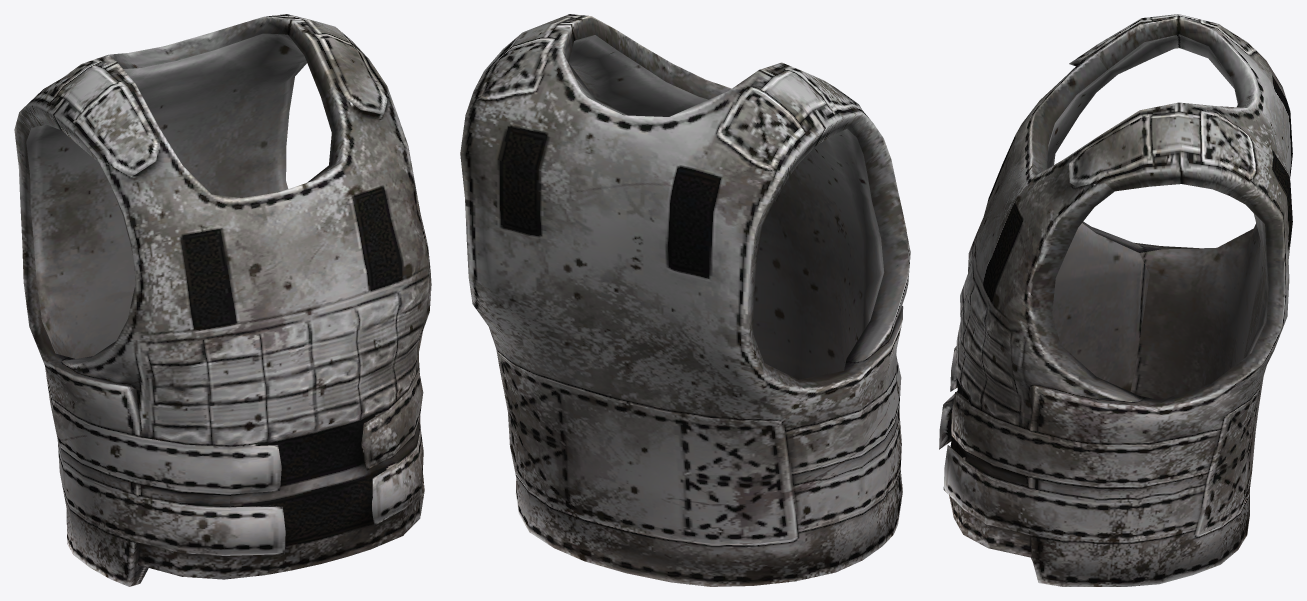
The model's file is SurvivorMale_Armor_Kevlar_Basic_Velcro_LOD0.glb.
The picture shows the model from 3 angles, left to right: view 1: azimuth 30°, elevation 25°; view 2: azimuth 150°, elevation 25°; view 3: azimuth 270°, elevation 25°; orthographic projection. The views are drawn at different scales.
Parts seen in each view (by area): view 1: Hoodie; view 2: Hoodie; view 3: Hoodie.
Boxes of the visible parts, <box> form: Hoodie: <box>14,14,431,586</box>; Hoodie: <box>460,14,910,586</box>; Hoodie: <box>939,14,1292,586</box>.
Size of the model in its own units: 0.4007 by 0.5184 by 0.365.
1 material, 1 textured.
